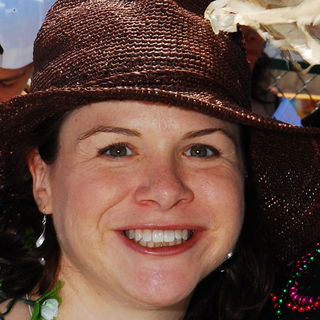eye: (95, 139, 141, 164), (176, 139, 223, 161)
